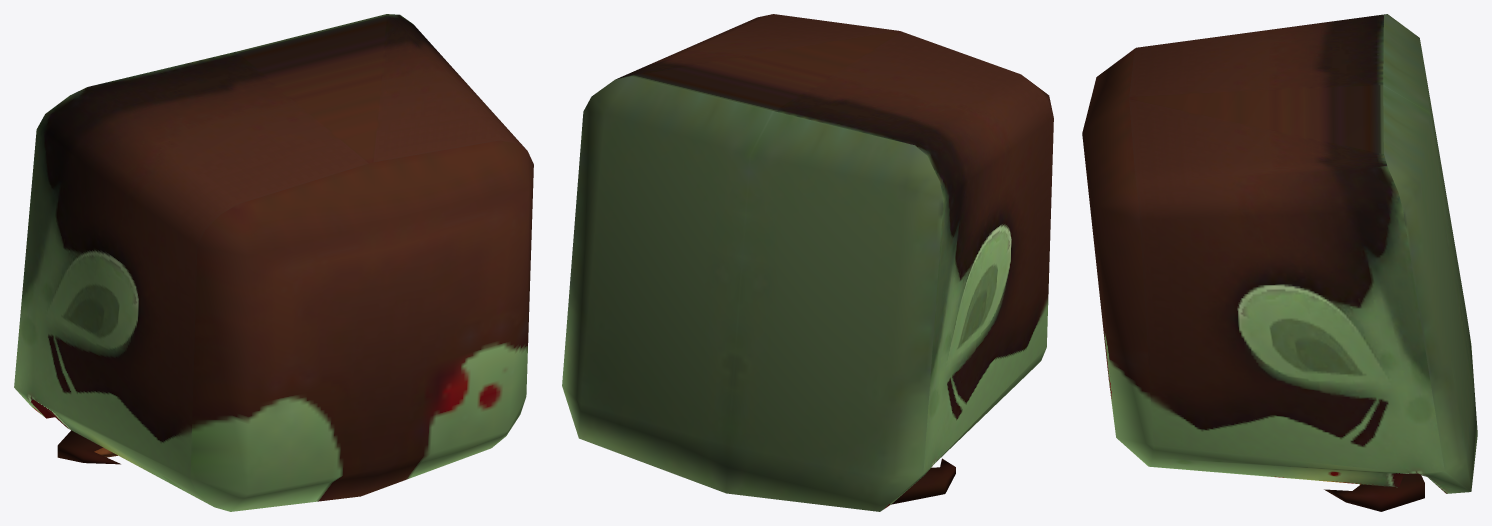
File: Zombie_FatCook_H_Head_4acea194__Zombie_FatCook_Green_01_8f7617ed_c1f257.obj
The picture shows the model from 3 angles, left to right: view 1: azimuth 30°, elevation 25°; view 2: azimuth 150°, elevation 25°; view 3: azimuth 270°, elevation 25°; orthographic projection. The views are drawn at different scales.
Size of the model in its own units: 0.8328 by 0.8144 by 0.7873.
Materials: 1 (1 with a texture image).
